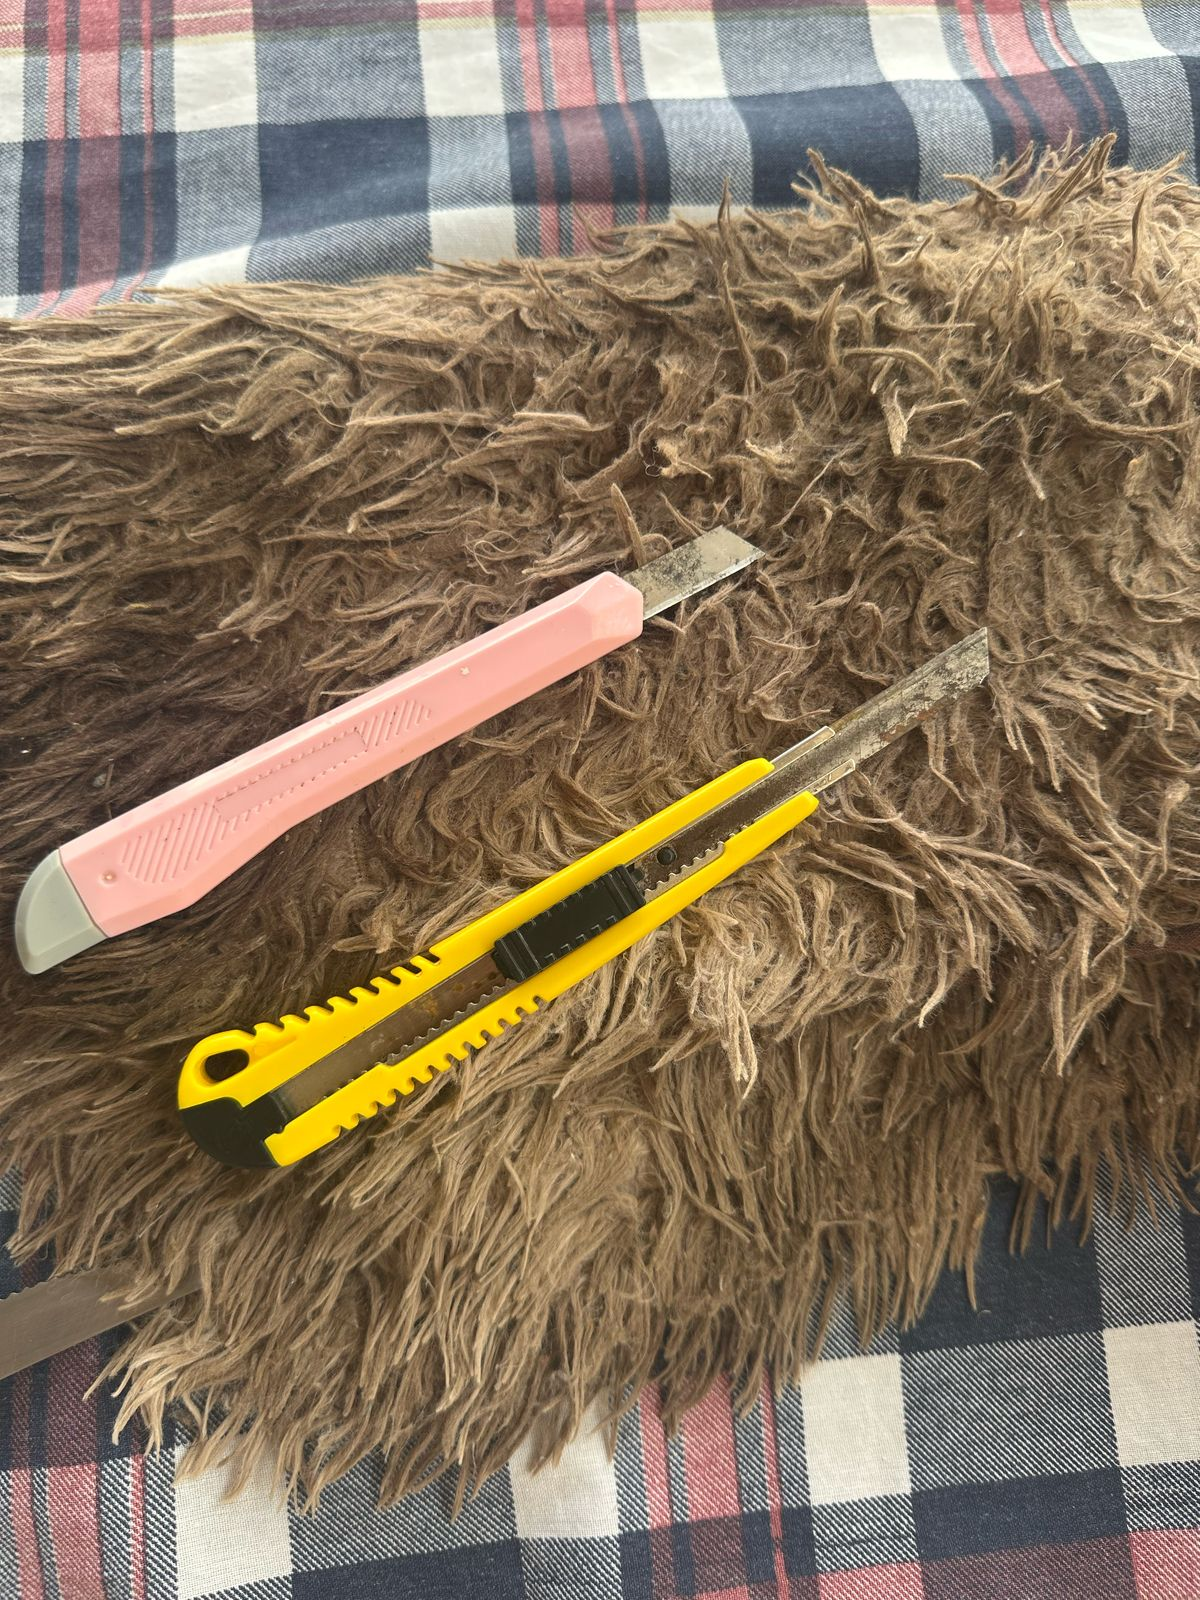estilete: (164, 603, 1010, 1179), (44, 488, 807, 963)
